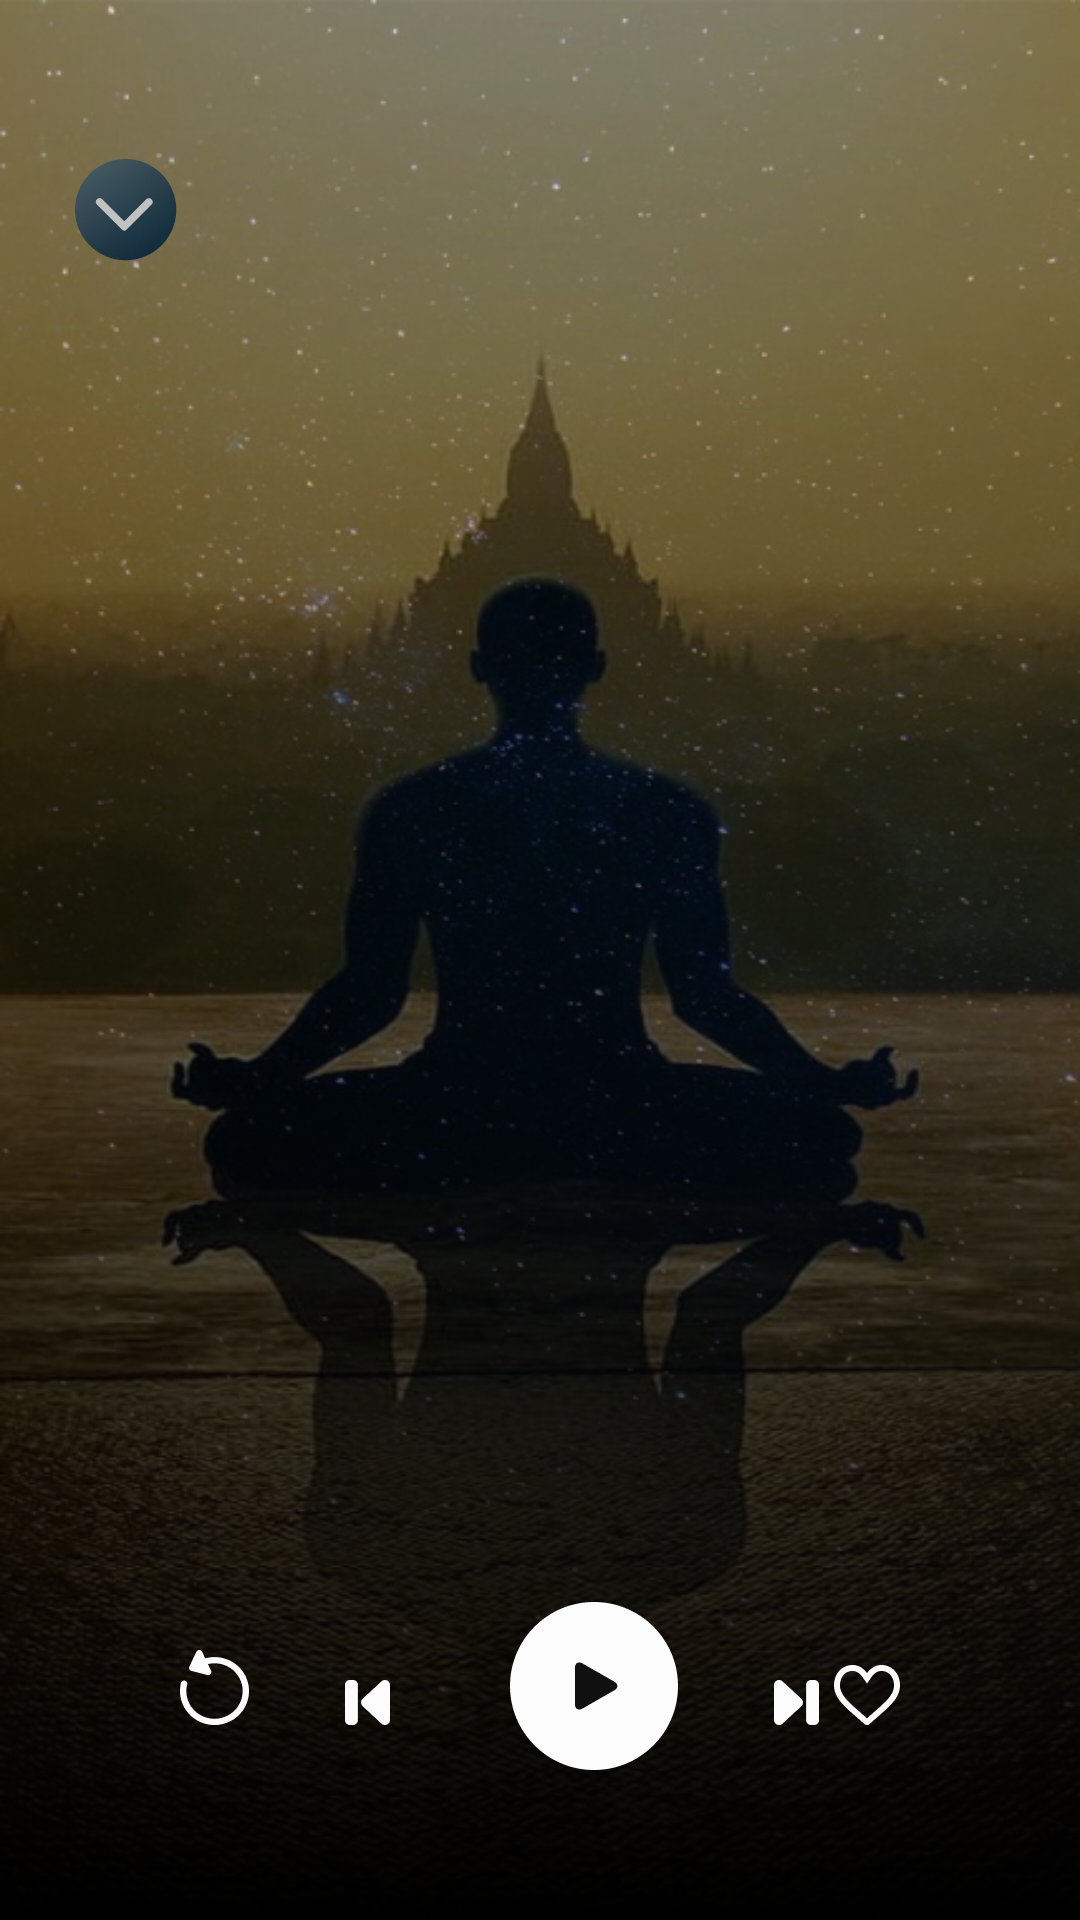

Icon bounding boxes for this 1080px x 1920px phone screenshot, format (x1, y1, x2, y2):
back playlist: (345, 1680, 390, 1725)
dropdown arrow: (51, 153, 198, 285)
fav playlist: (834, 1665, 900, 1725)
next playlist: (774, 1680, 819, 1725)
play playlist: (510, 1602, 678, 1770)
refresh playlist: (180, 1650, 249, 1725)
